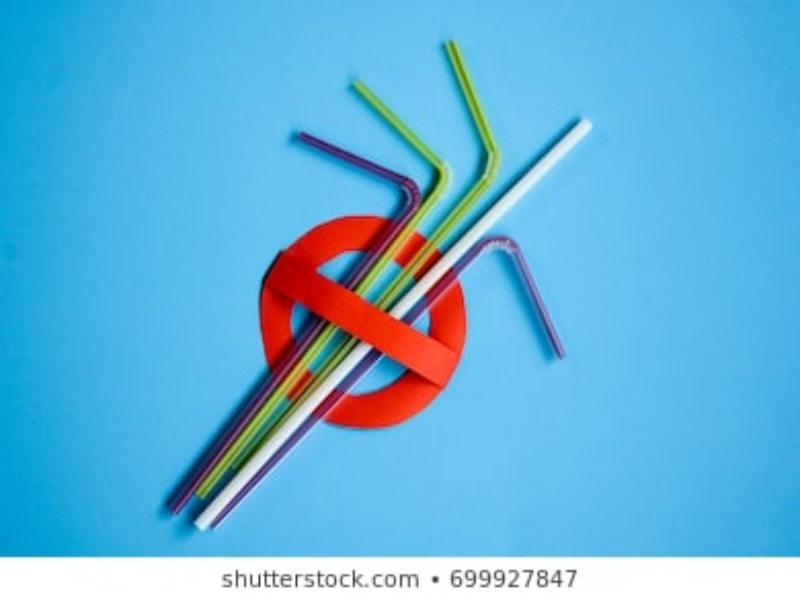straw: (195, 112, 596, 530), (205, 35, 498, 497), (198, 74, 455, 497), (211, 233, 566, 530), (169, 130, 421, 510)
